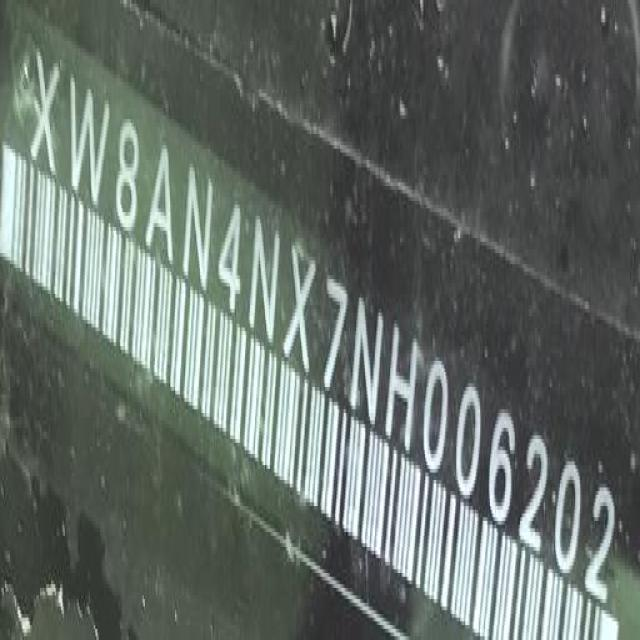0: (456, 378, 484, 505), (555, 448, 582, 579), (423, 351, 449, 475)
2: (584, 479, 620, 603), (520, 430, 551, 557)
4: (219, 200, 242, 314)
6: (488, 400, 517, 523)
7: (322, 262, 348, 400)
8: (114, 116, 138, 235)
A: (145, 142, 176, 270)
H: (383, 317, 421, 454)
N: (347, 298, 384, 426), (247, 214, 281, 348), (184, 161, 213, 295)
W: (68, 67, 112, 207)
X: (284, 230, 316, 372), (28, 42, 60, 175)
